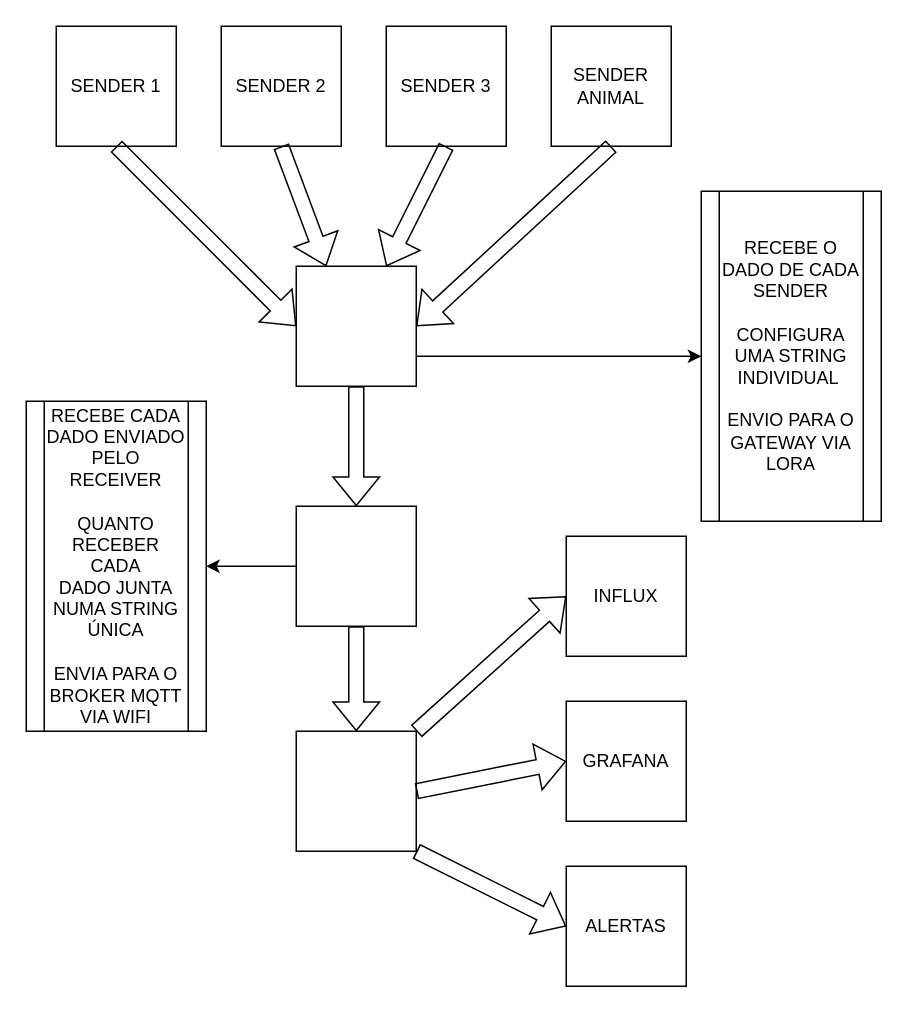
Some shapes in this 908 by 1013 pixel diagram are drawn without their labels. The shapes that lost their labels are listed below. From the top down, each one's box as (x1, y1, x2, y2) in pixels, then its label:
(295, 265, 416, 386): RECEIVER
(295, 505, 416, 626): GATEWAY
(295, 730, 416, 851): NODE-RED
